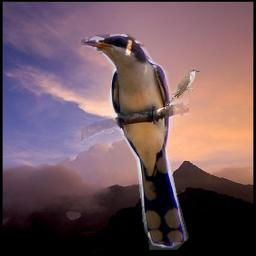Cuckoo: (81, 34, 189, 250), (165, 68, 200, 109)
